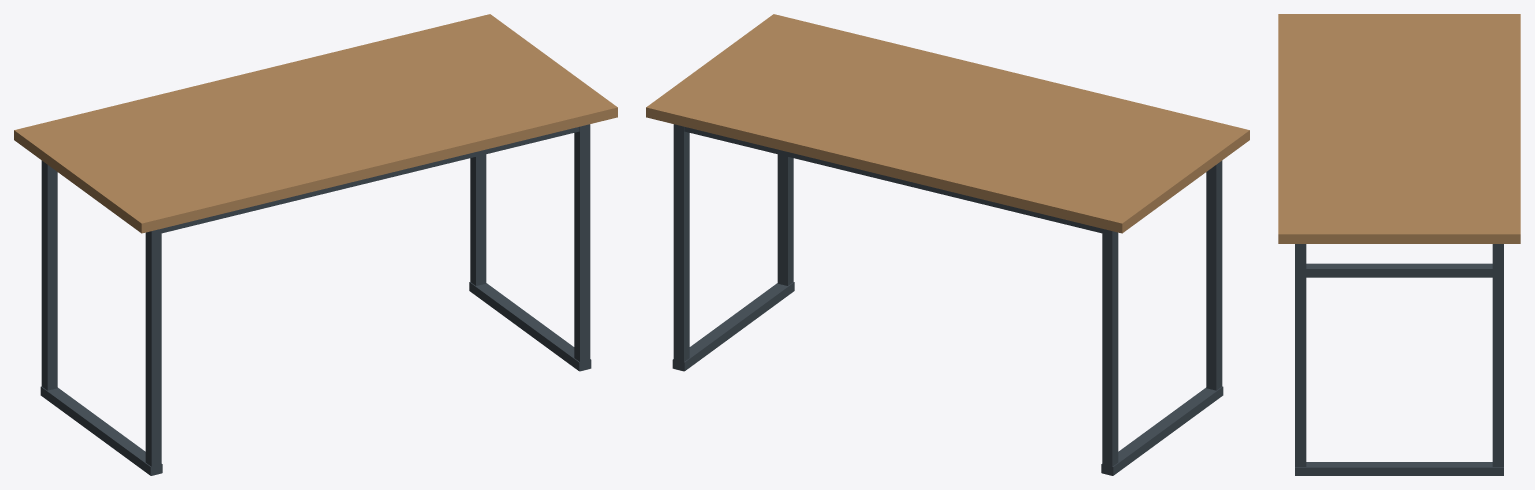
The model's file is workDesk-2.glb.
3 renders of one model, left to right at view 1: azimuth 30°, elevation 25°; view 2: azimuth 150°, elevation 25°; view 3: azimuth 270°, elevation 25°, orthographic. The views are drawn at different scales.
Visible parts, largest first — view 1: workDesk:2:editor; view 2: workDesk:2:editor; view 3: workDesk:2:editor.
Boxes of the visible parts, box(x1,y1,x2,y2) form: workDesk:2:editor: box(14, 14, 617, 475); workDesk:2:editor: box(646, 14, 1249, 475); workDesk:2:editor: box(1278, 14, 1520, 475).
Bounding box in the file's own units: 1.4 × 0.74 × 0.65.
